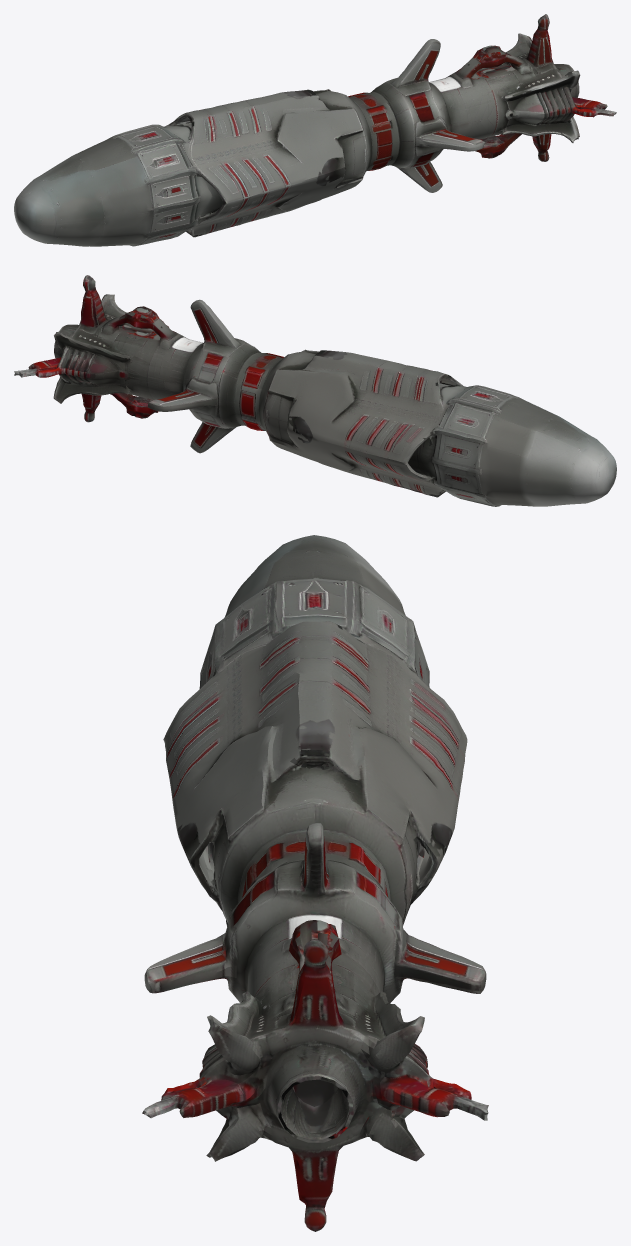
The model's file is javelin-CtdhyG7I.glb.
The picture shows the model from 3 angles, top to bottom: view 1: azimuth 30°, elevation 25°; view 2: azimuth 150°, elevation 25°; view 3: azimuth 270°, elevation 25°; orthographic projection. The views are drawn at different scales.
Parts seen in each view (by area): view 1: Mesh0; view 2: Mesh0; view 3: Mesh0.
Part boxes in pixels (<box>): Mesh0: <box>14,14,616,246</box>; Mesh0: <box>14,275,616,506</box>; Mesh0: <box>142,535,488,1231</box>.
Bounding box in the file's own units: 1.91 × 0.4968 × 0.5145.
1 material, 1 textured.
